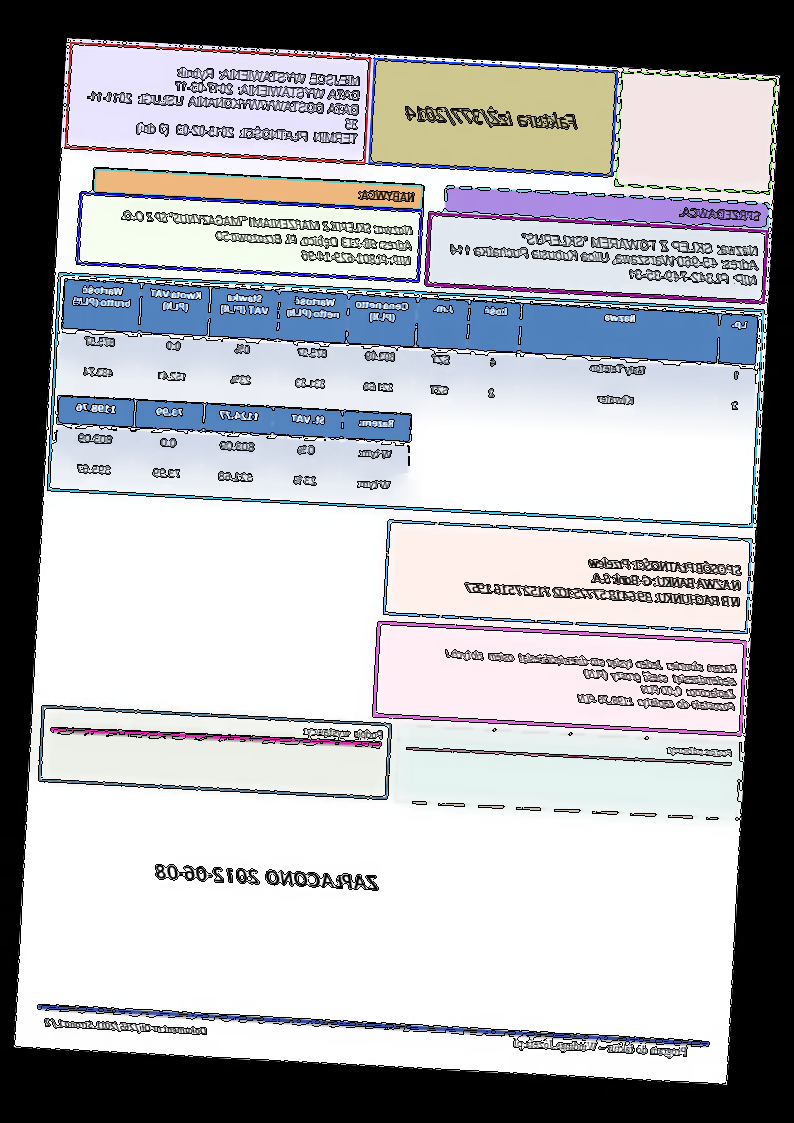Table: (57, 276, 761, 429), (51, 393, 415, 506)
TextBox: (81, 57, 363, 150), (438, 645, 739, 714), (447, 226, 762, 291), (117, 206, 416, 270), (463, 546, 745, 612), (154, 859, 381, 894), (401, 101, 583, 135), (513, 1032, 690, 1061), (42, 1013, 210, 1039), (677, 203, 765, 223), (301, 723, 387, 743), (665, 740, 735, 761), (357, 184, 418, 206)
